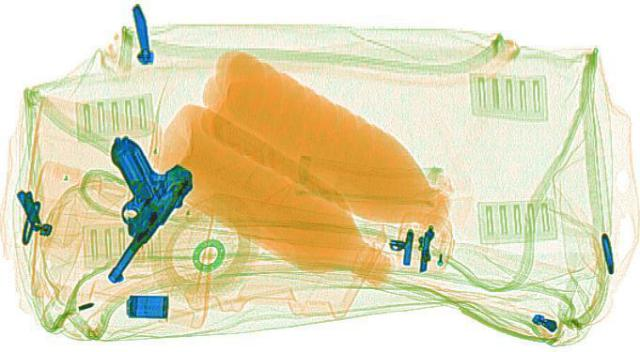Gun: (78, 133, 214, 279)
